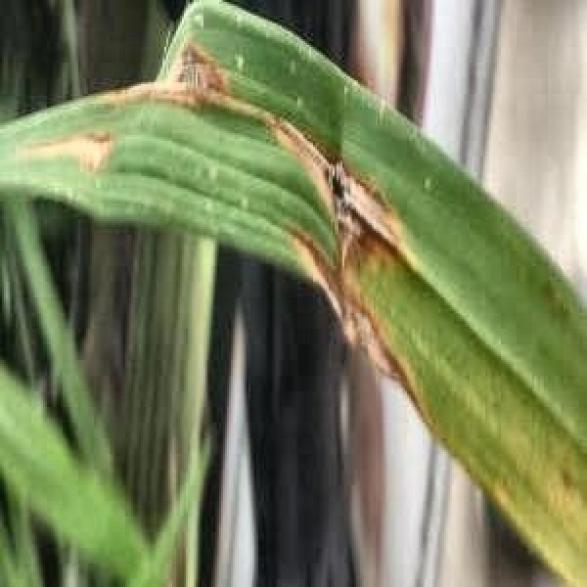Leaf_smut: (274, 102, 428, 421), (14, 37, 270, 178)
